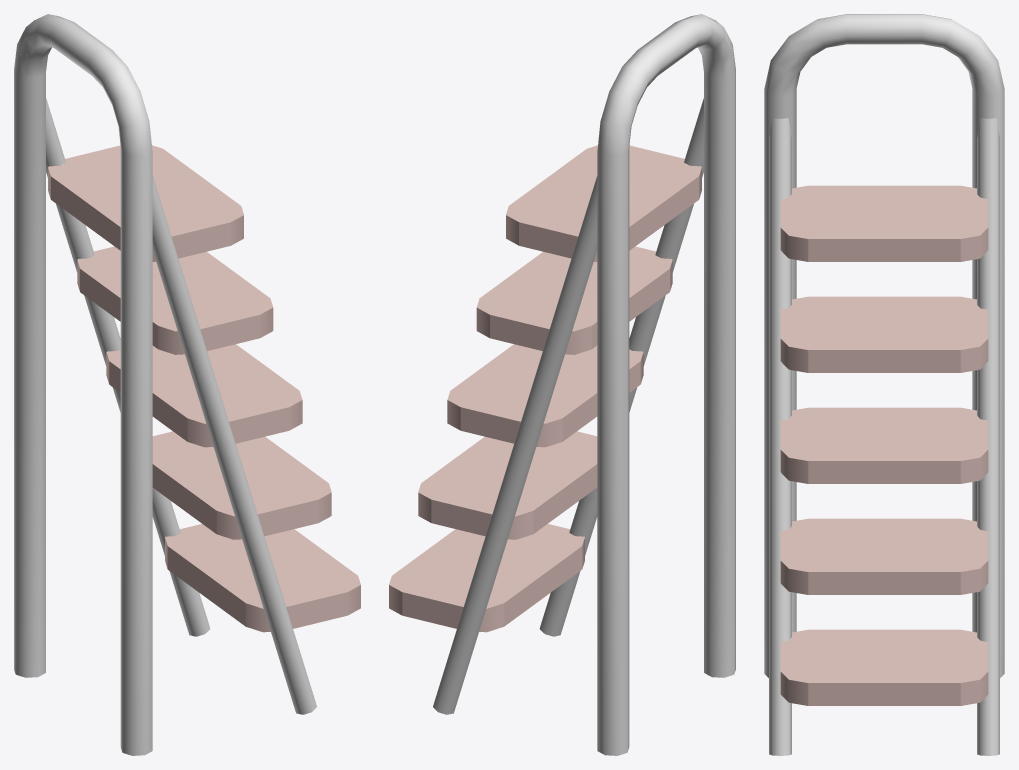
Rendered from Escada.fbx.
3 views of the same model, side by side, from view 1: azimuth 30°, elevation 25°; view 2: azimuth 150°, elevation 25°; view 3: azimuth 270°, elevation 25° (orthographic). The views are drawn at different scales.
Visible parts, largest first — view 1: Cilindro.019; view 2: Cilindro.019; view 3: Cilindro.019.
Boxes of the visible parts, x1,y1,x2,y2 form: Cilindro.019: (14,14,360,755); Cilindro.019: (389,14,735,755); Cilindro.019: (764,14,1004,755).
Size of the model in its own units: 204 by 529 by 174.
